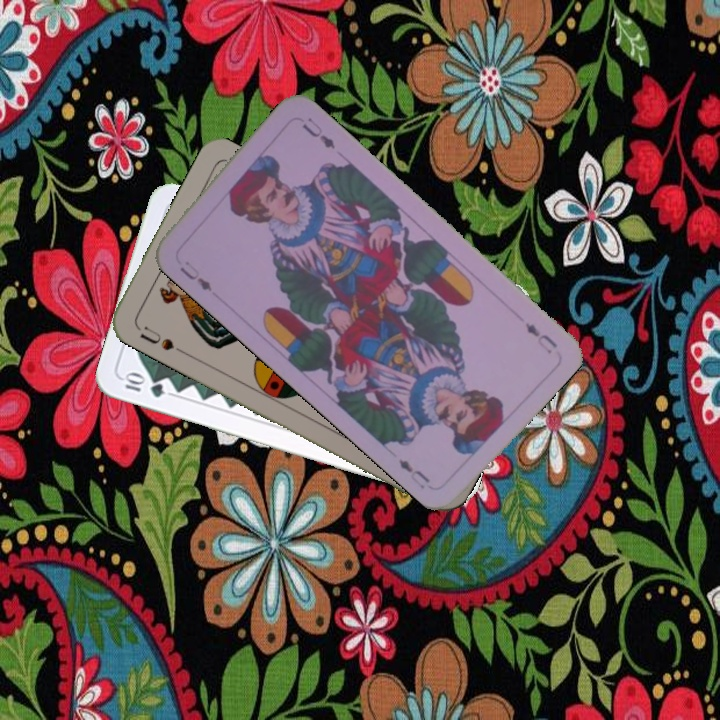EU: (521, 318, 560, 357), (175, 257, 215, 294)
G10: (121, 370, 167, 400)
SU: (136, 321, 187, 356)
